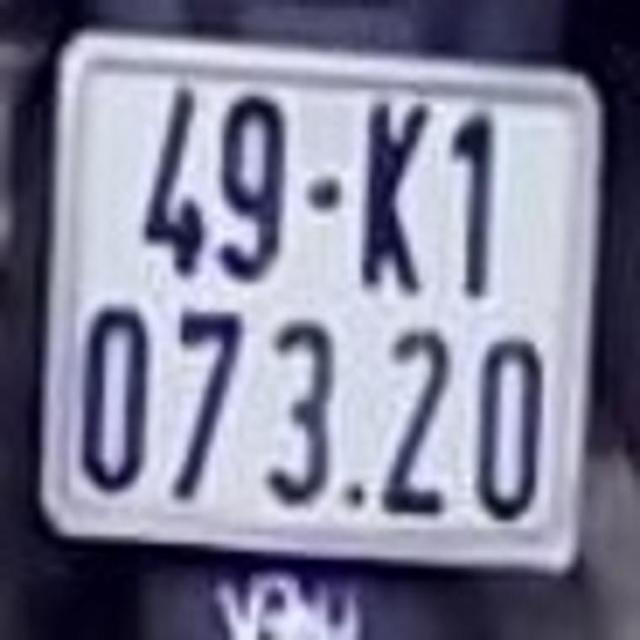0: (471, 318, 546, 524), (78, 295, 150, 492)
1: (445, 101, 502, 299)
2: (379, 313, 450, 517)
3: (265, 310, 335, 506)
4: (138, 84, 208, 278)
7: (170, 300, 246, 503)
9: (216, 88, 288, 285)
K: (362, 91, 429, 298)
